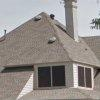Chimney: (55, 3, 84, 48)
